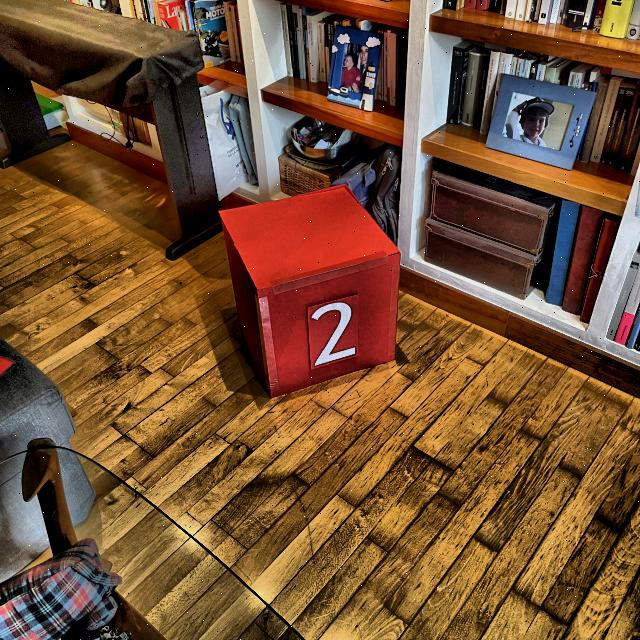red box: (216, 182, 402, 400)
two: (312, 301, 358, 369)
